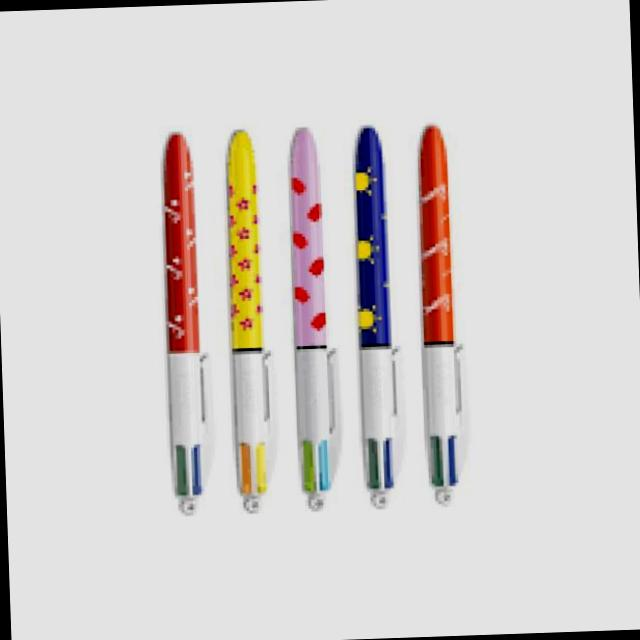Pen - Non Recyclable: (286, 128, 344, 511), (349, 127, 406, 510), (414, 127, 470, 506), (223, 132, 276, 514), (160, 133, 210, 514)
